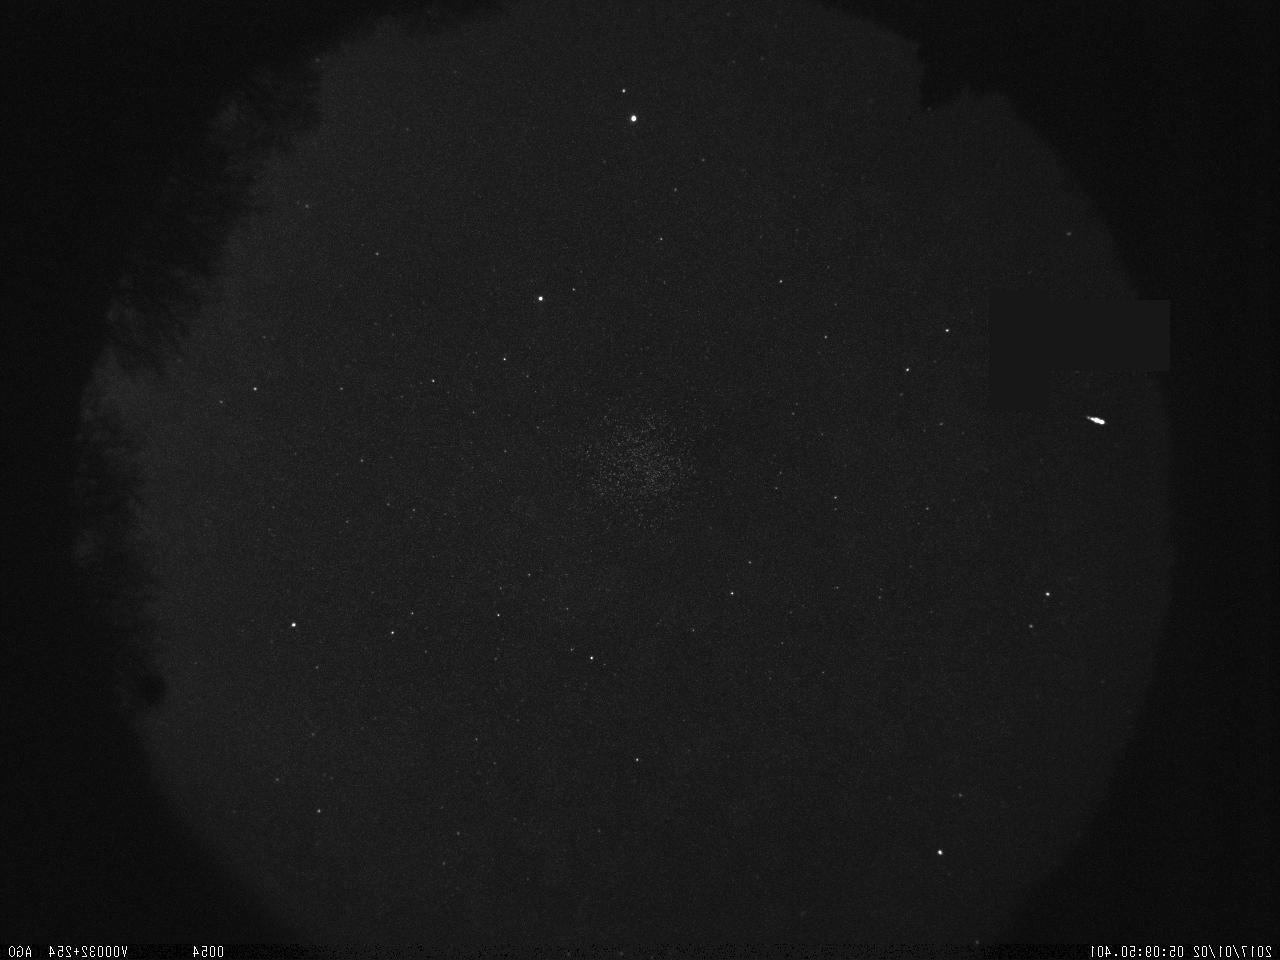meteor: (1075, 408, 1115, 433)
